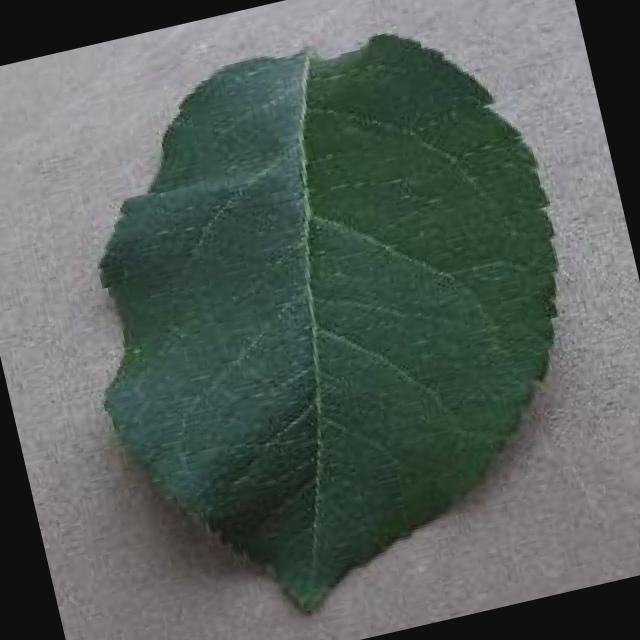healthy: (101, 37, 554, 611)
